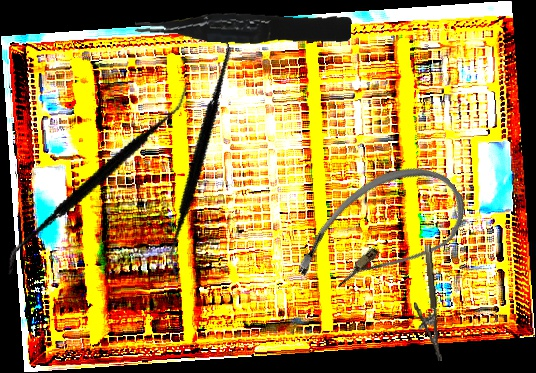Cannula: (282, 141, 480, 327)
Needle Holder: (408, 244, 443, 363)
Spatula Surgical: (5, 54, 192, 308), (105, 28, 292, 276)
Tissue Forceps: (134, 2, 352, 52)
